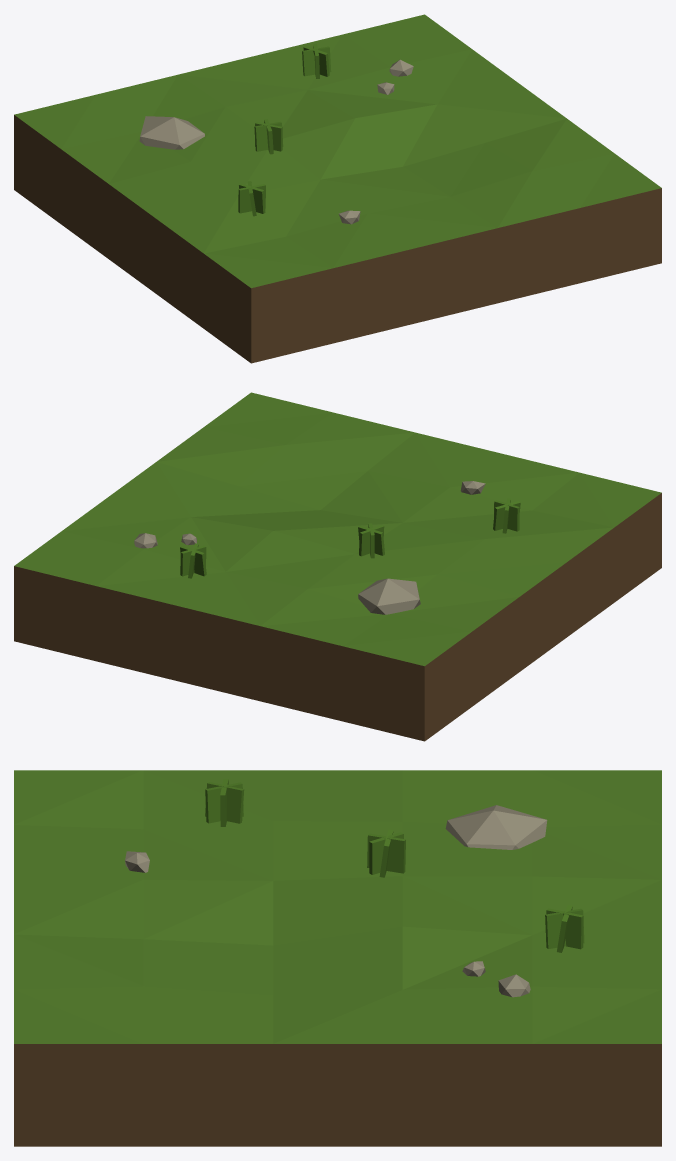
File: SM_Terrain_Rustic_01_Flat.glb
3 renders of one model, top to bottom at view 1: azimuth 30°, elevation 25°; view 2: azimuth 150°, elevation 25°; view 3: azimuth 270°, elevation 25°, orthographic. The views are drawn at different scales.
Parts seen in each view (by area): view 1: SM_Terrain_Rustic_01_Flat_Ground, SM_Terrain_Rustic_01_Flat_Fieldstone; view 2: SM_Terrain_Rustic_01_Flat_Ground, SM_Terrain_Rustic_01_Flat_Fieldstone; view 3: SM_Terrain_Rustic_01_Flat_Ground, SM_Terrain_Rustic_01_Flat_Fieldstone, SM_Terrain_Rustic_01_Flat_Tuft21, SM_Terrain_Rustic_01_Flat_Tuft11, SM_Terrain_Rustic_01_Flat_Tuft01, SM_Terrain_Rustic_01_Flat_Tuft12, SM_Terrain_Rustic_01_Flat_Tuft02, SM_Terrain_Rustic_01_Flat_Pebble0, SM_Terrain_Rustic_01_Flat_Tuft22.
Part boxes in pixels (x1,y1,x2,y2): SM_Terrain_Rustic_01_Flat_Ground: [14, 14, 661, 363]; SM_Terrain_Rustic_01_Flat_Fieldstone: [139, 116, 204, 149]; SM_Terrain_Rustic_01_Flat_Ground: [14, 392, 661, 741]; SM_Terrain_Rustic_01_Flat_Fieldstone: [358, 578, 420, 614]; SM_Terrain_Rustic_01_Flat_Ground: [14, 770, 661, 1146]; SM_Terrain_Rustic_01_Flat_Fieldstone: [445, 805, 547, 849]; SM_Terrain_Rustic_01_Flat_Tuft21: [367, 833, 405, 873]; SM_Terrain_Rustic_01_Flat_Tuft11: [546, 908, 583, 949]; SM_Terrain_Rustic_01_Flat_Tuft01: [205, 782, 244, 823]; SM_Terrain_Rustic_01_Flat_Tuft12: [545, 908, 584, 948]; SM_Terrain_Rustic_01_Flat_Tuft02: [205, 782, 243, 823]; SM_Terrain_Rustic_01_Flat_Pebble0: [498, 974, 530, 997]; SM_Terrain_Rustic_01_Flat_Tuft22: [369, 832, 403, 874].
Size of the model in its own units: 2 by 0.4702 by 2.
